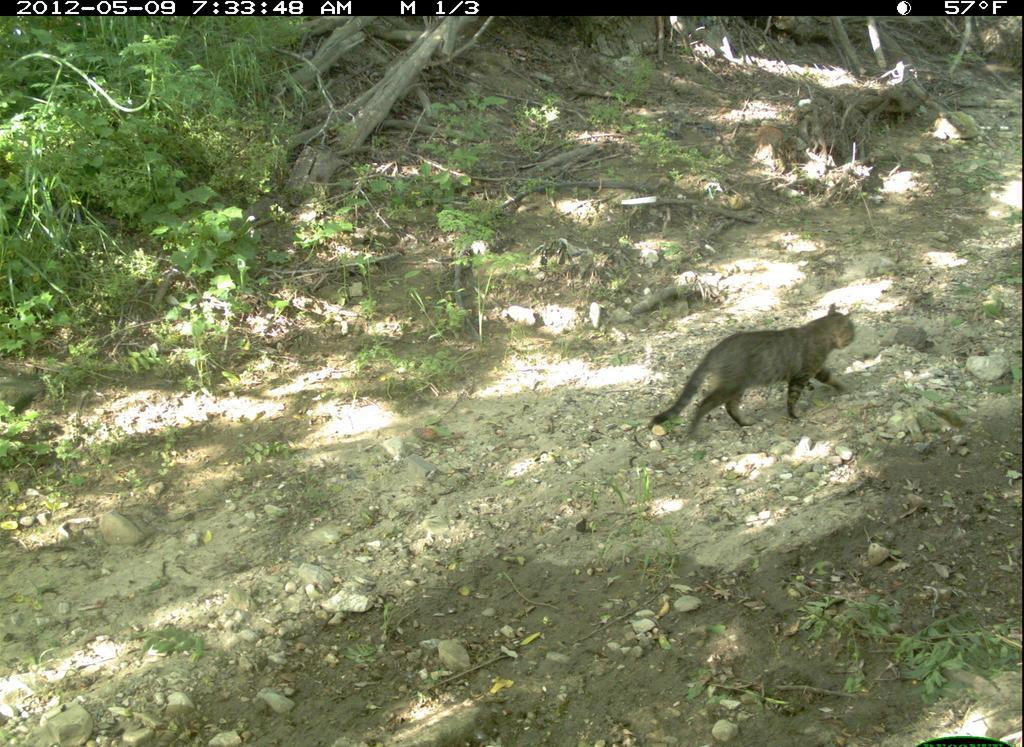cat: (643, 303, 867, 446)
